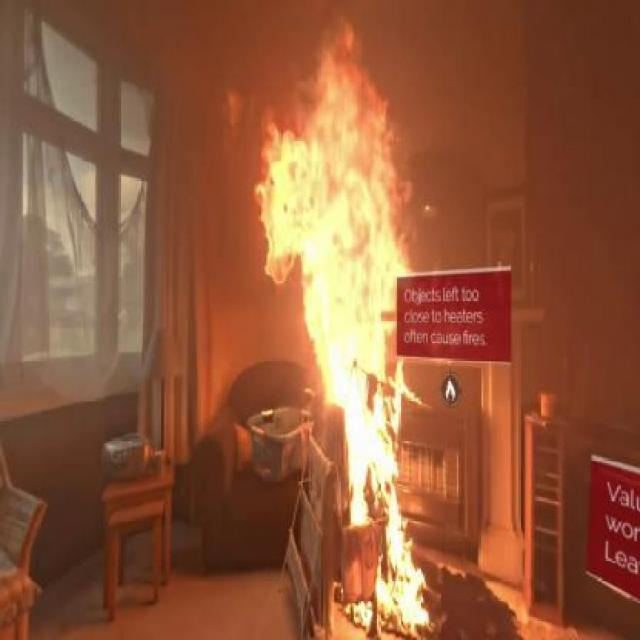fire: (290, 135, 402, 534)
smoke: (393, 0, 572, 216), (140, 1, 266, 281)
